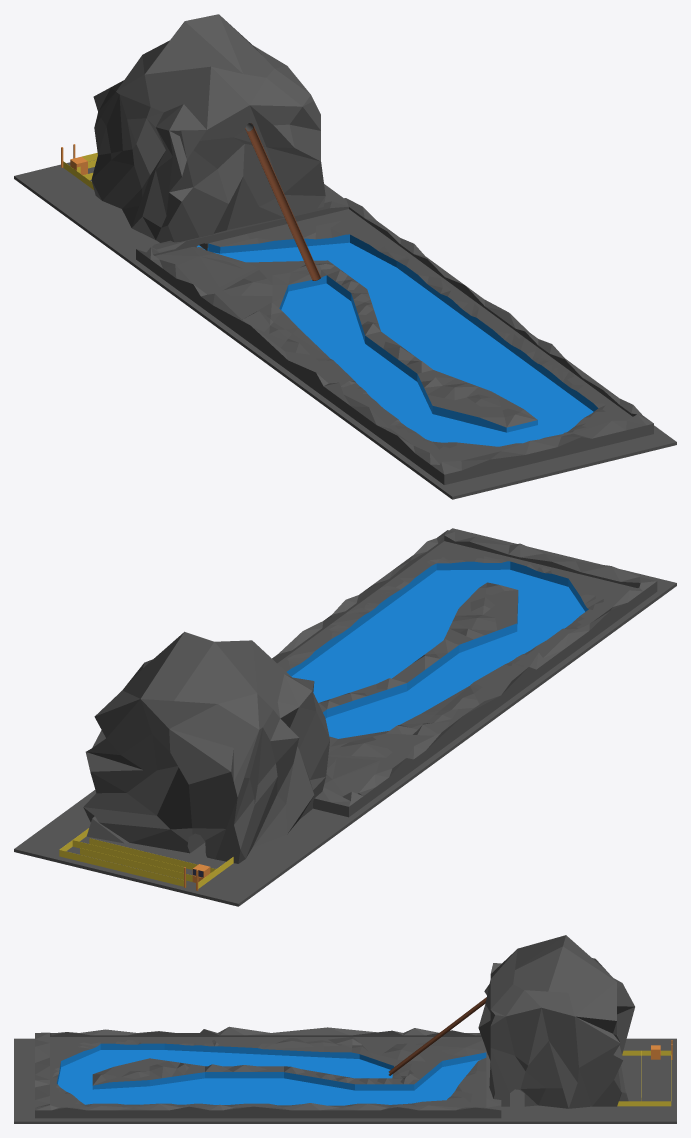
Rendered from LogRide.glb.
3 views of the same model, one above another, from view 1: azimuth 30°, elevation 25°; view 2: azimuth 150°, elevation 25°; view 3: azimuth 270°, elevation 25° (orthographic). The views are drawn at different scales.
Visible parts, largest first — view 1: Cube.002, Cube.001, Cube.003, Cube, Cylinder.001; view 2: Cube.001, Cube.002, Cube.003, Cube, Cube.005, Cube.006, Cube.008, Cube.010; view 3: Cube.002, Cube.001, Cube.003, Cube, Cylinder.001, Cube.007.
Boxes of the visible parts, box(x1,y1,x2,y2) form: Cube.002: box(136, 198, 653, 484); Cube.001: box(91, 14, 325, 249); Cube.003: box(155, 209, 632, 464); Cube: box(14, 160, 676, 499); Cylinder.001: box(245, 123, 321, 280); Cube.001: box(83, 631, 329, 863); Cube.002: box(272, 530, 657, 817); Cube.003: box(277, 541, 636, 795); Cube: box(14, 528, 676, 906); Cube.005: box(59, 850, 186, 886); Cube.006: box(80, 848, 192, 881); Cube.008: box(72, 840, 183, 873); Cube.010: box(89, 838, 215, 873); Cube.002: box(35, 1026, 501, 1118); Cube.001: box(478, 935, 634, 1108); Cube.003: box(50, 1037, 486, 1107); Cube: box(14, 1038, 676, 1123); Cylinder.001: box(388, 997, 486, 1075); Cube.007: box(617, 1101, 671, 1106).
Bounding box in the file's own units: 40 × 32.05 × 135.
